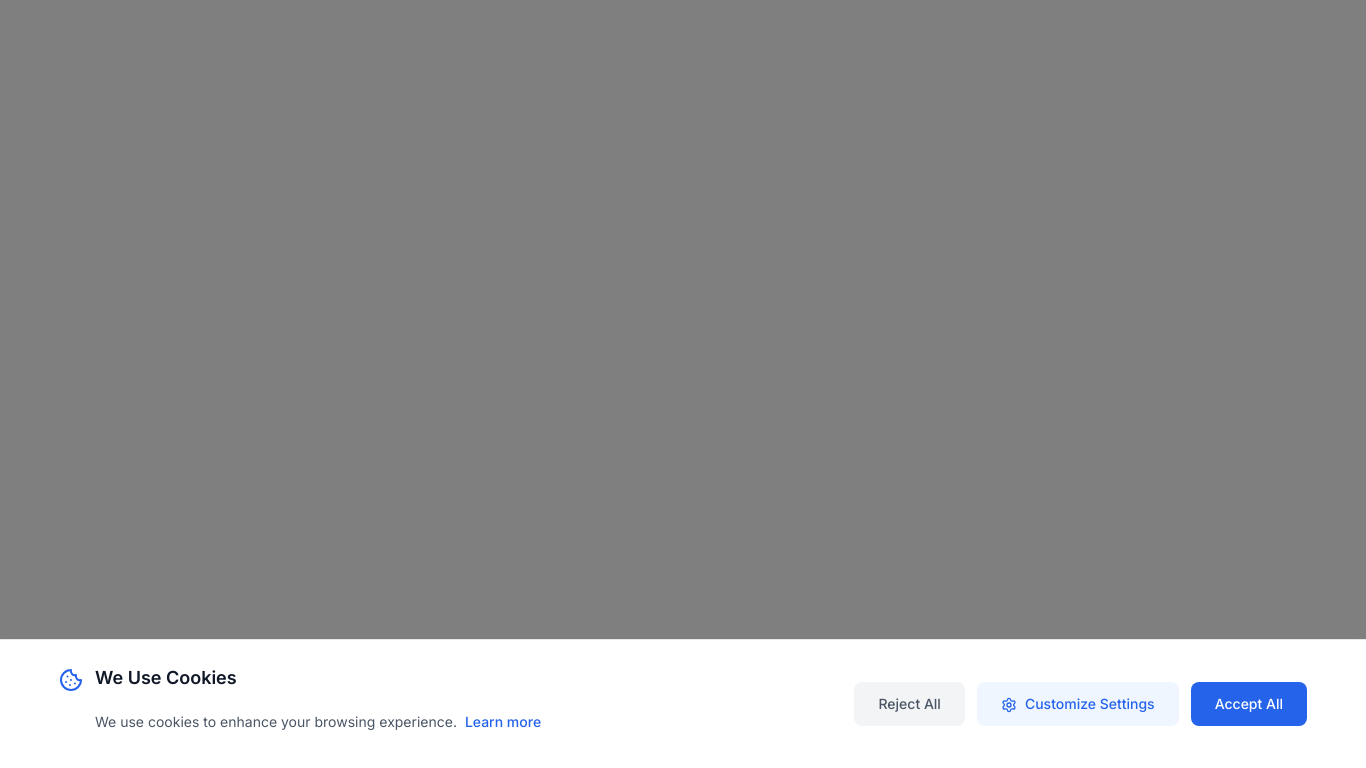
Test: CookieConsentBanner › accessibility features › closes detailed settings view using close button
Click the button "Customize Settings": [1078, 704] box x1=977 y1=682 x2=1179 y2=726
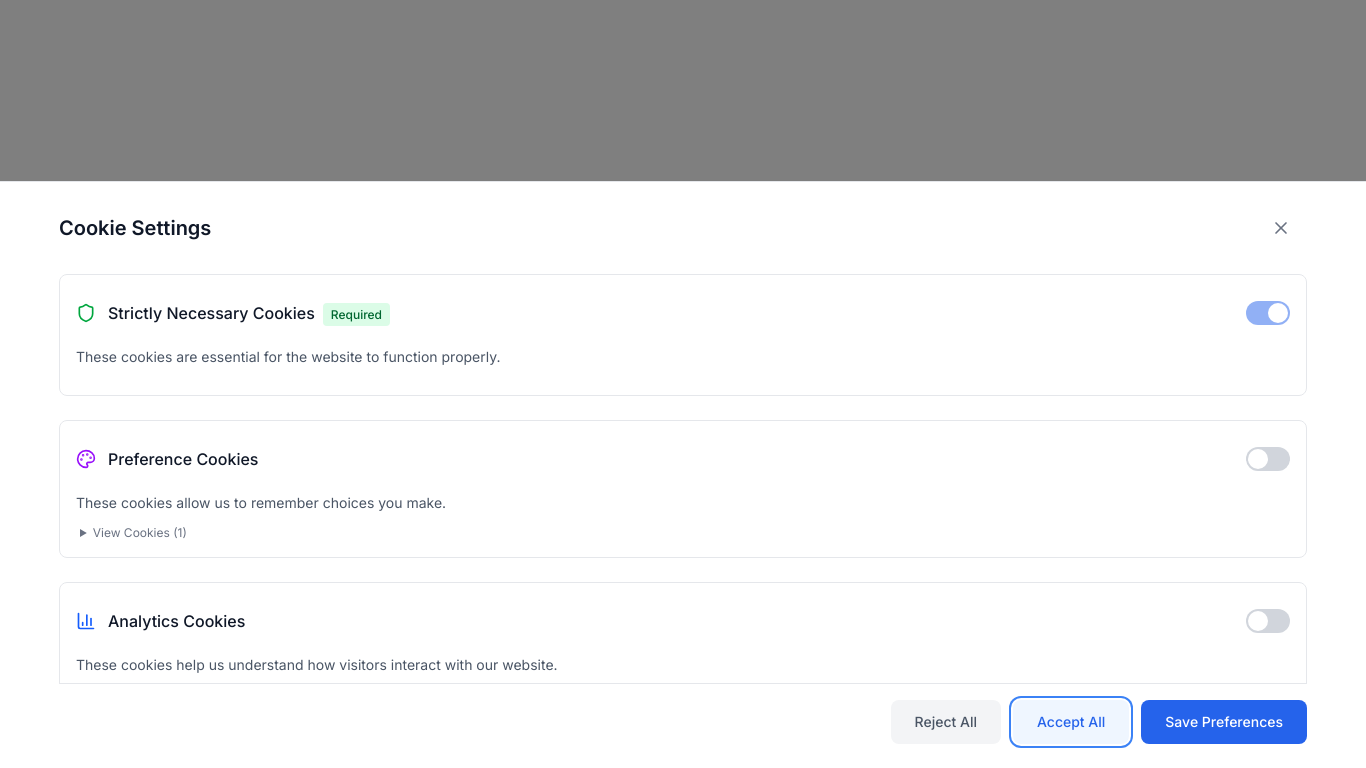
Expected: the heading "Cookie Settings" is shown, x1=59 y1=214 x2=211 y2=242
Click the button named "Close": [1285, 228] box x1=1263 y1=206 x2=1307 y2=250
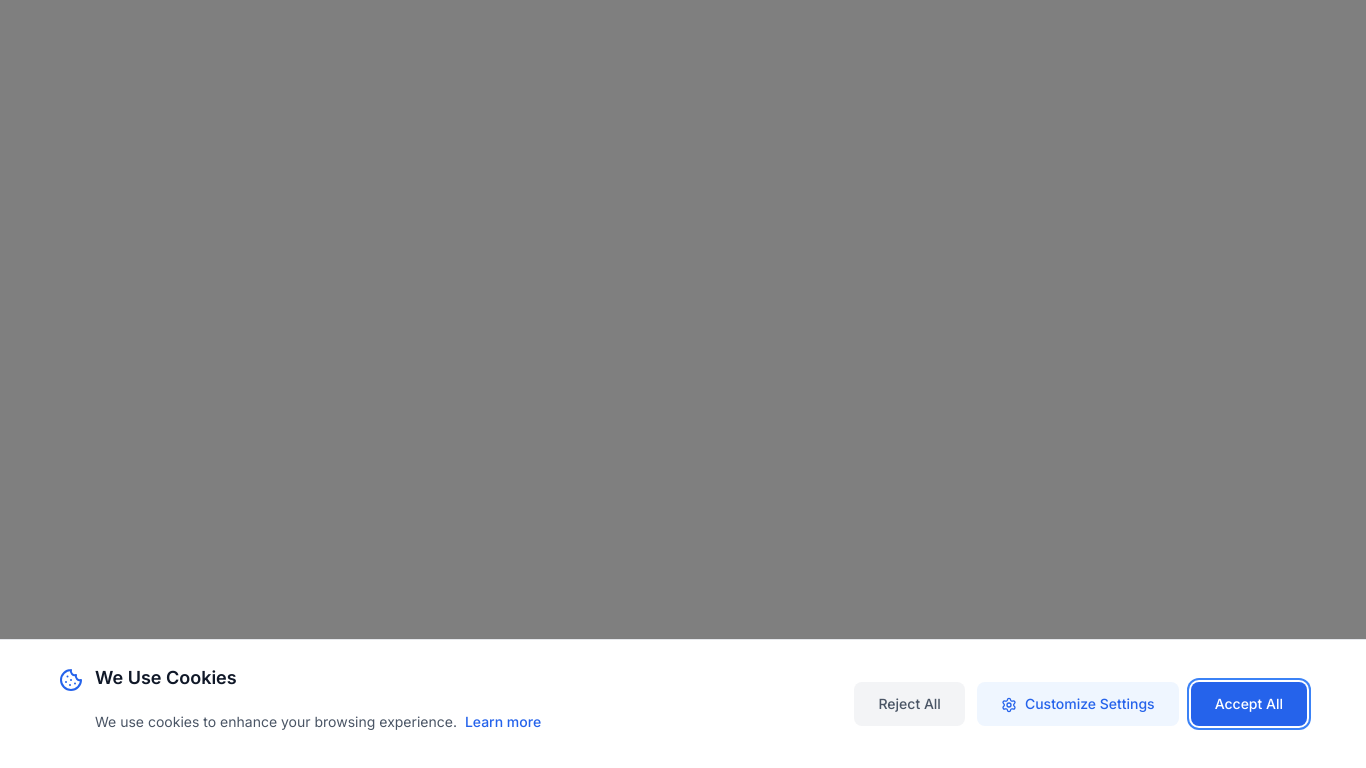
Expected: the heading "Cookie Settings" is gone
Expected: the heading "We Use Cookies" is shown, x1=95 y1=667 x2=237 y2=688
